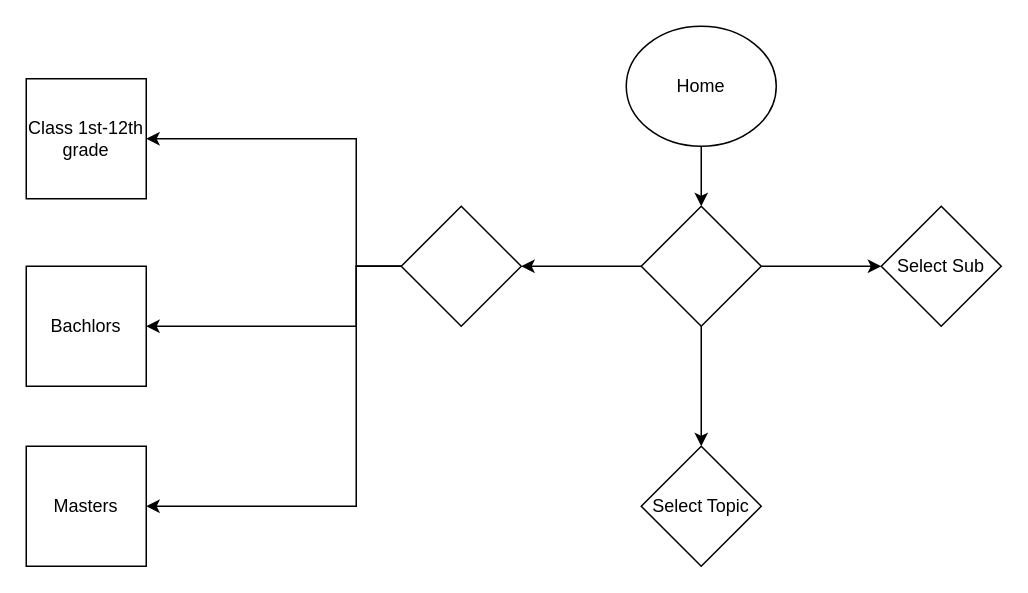
Some shapes in this 1028 by 593 pixel diagram are drawn without their labels. Here are the shapes that lost their labels. From the top down, the box of each, then its label:
(400, 205, 521, 326): Select Class
(640, 205, 761, 326): Selection
